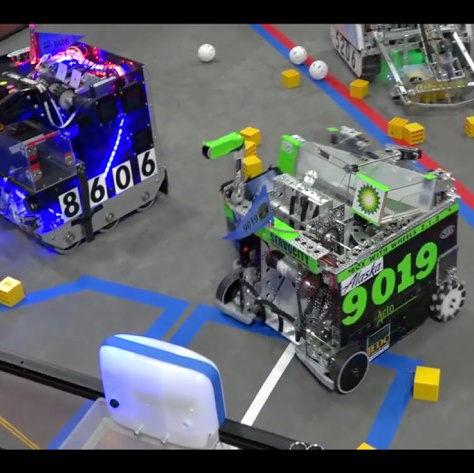robot: (200, 123, 472, 395), (0, 23, 171, 257), (328, 22, 474, 113)
